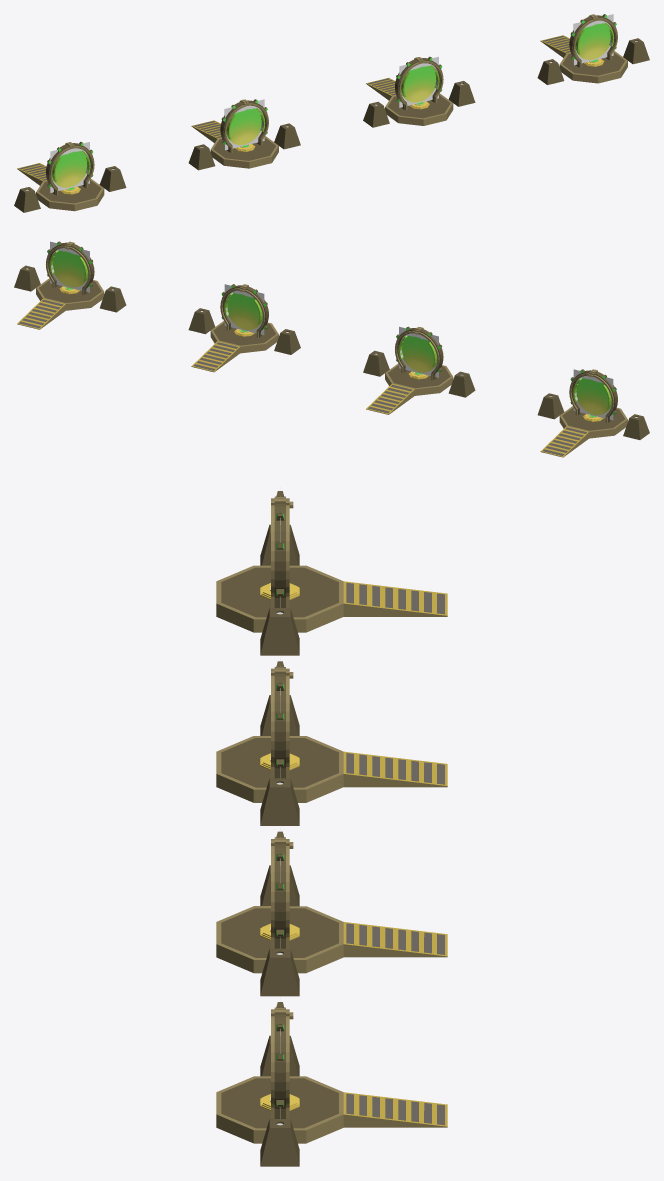
The model's file is Teletransport_D7.fbx.
The picture shows the model from 3 angles, top to bottom: view 1: azimuth 30°, elevation 25°; view 2: azimuth 150°, elevation 25°; view 3: azimuth 270°, elevation 25°; orthographic projection. The views are drawn at different scales.
Visible parts, largest first — view 1: Circle.299; view 2: Circle.299; view 3: Circle.299.
Boxes of the visible parts, x1,y1,x2,y2 form: Circle.299: [14, 14, 649, 212]; Circle.299: [14, 241, 649, 457]; Circle.299: [216, 486, 447, 1166].
Bounding box in the file's own units: 4739 × 387 × 757.
Materials: 3 (2 with a texture image).
